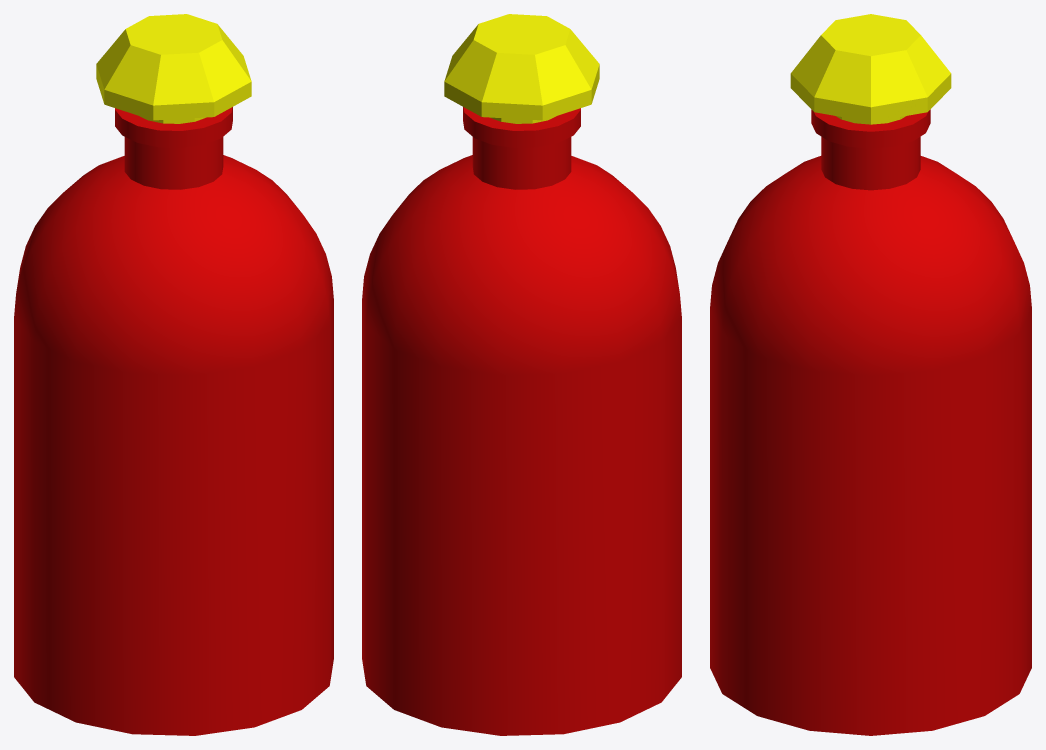
The model's file is Abbie - ChemicalBottle3Green.fbx.
3 views of the same model, side by side, from view 1: azimuth 30°, elevation 25°; view 2: azimuth 150°, elevation 25°; view 3: azimuth 270°, elevation 25° (orthographic).
Visible parts, largest first — view 1: bottle3; view 2: bottle3; view 3: bottle3.
Part boxes in pixels (x1,y1,x2,y2): bottle3: (14,14,333,735); bottle3: (362,14,681,735); bottle3: (710,14,1031,735).
Bounding box in the file's own units: 6.44 × 13.96 × 6.44.
